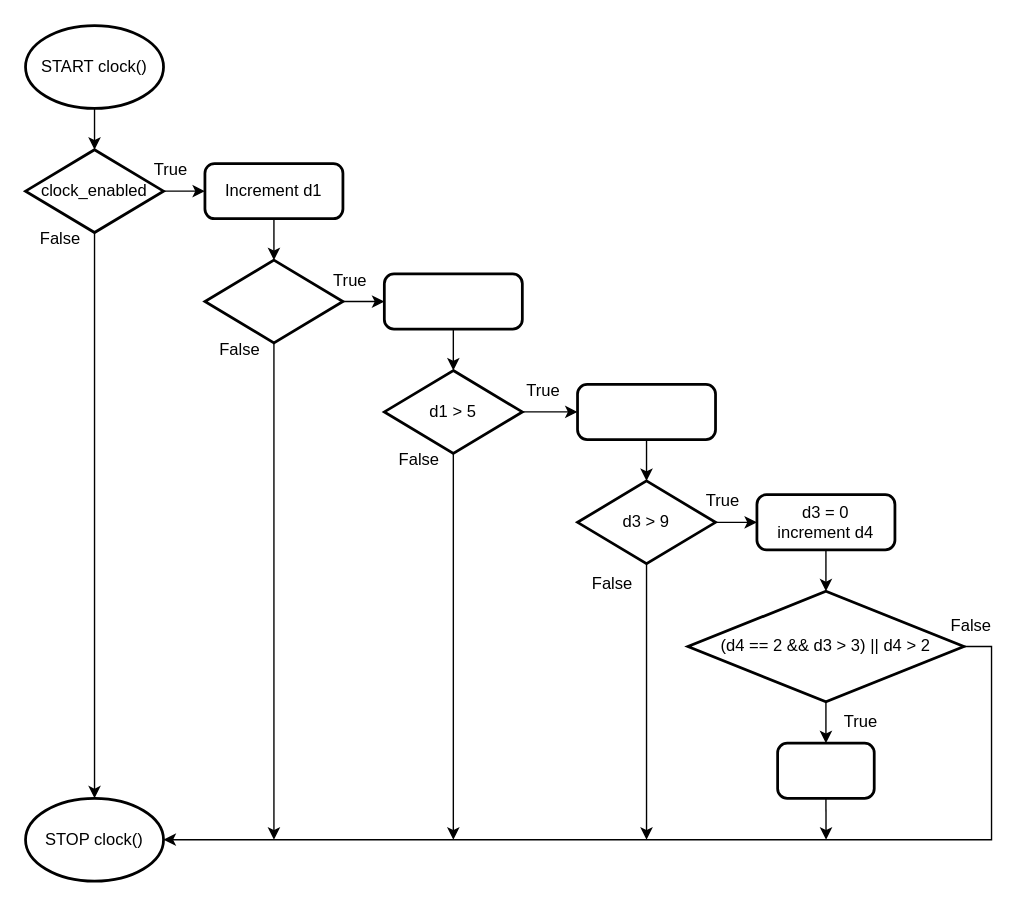
Some shapes in this 1028 by 905 pixel diagram are drawn without their labels. Each missing label, with the box of its shape:
d1 = 0 increment d2: (382, 272, 523, 330)
d1 = 0 increment d3: (575, 382, 716, 440)
d1 > 9: (203, 258, 344, 344)
d4 = 0: (776, 741, 875, 799)
